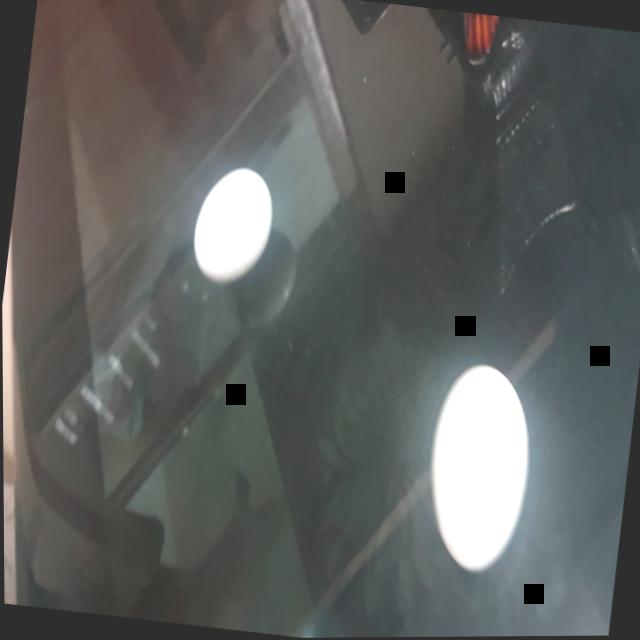eggs: (416, 355, 539, 576), (185, 160, 277, 287)
